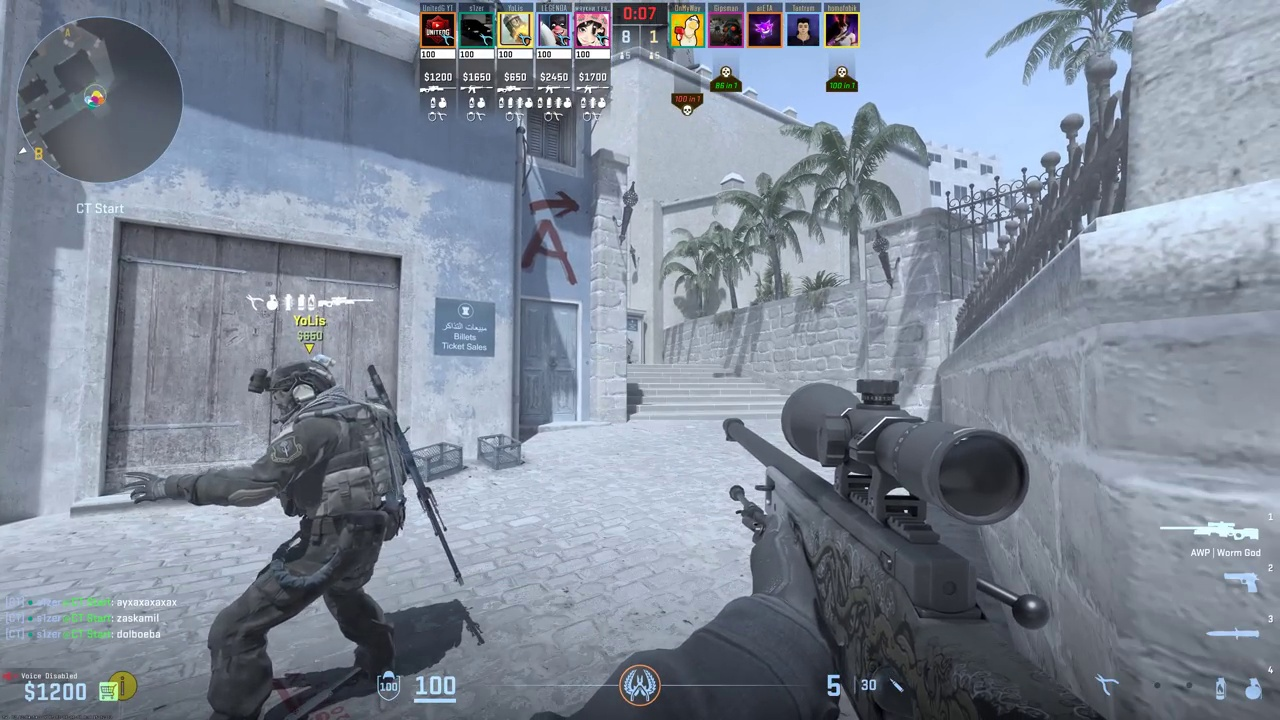CT: (210, 359, 391, 715)
